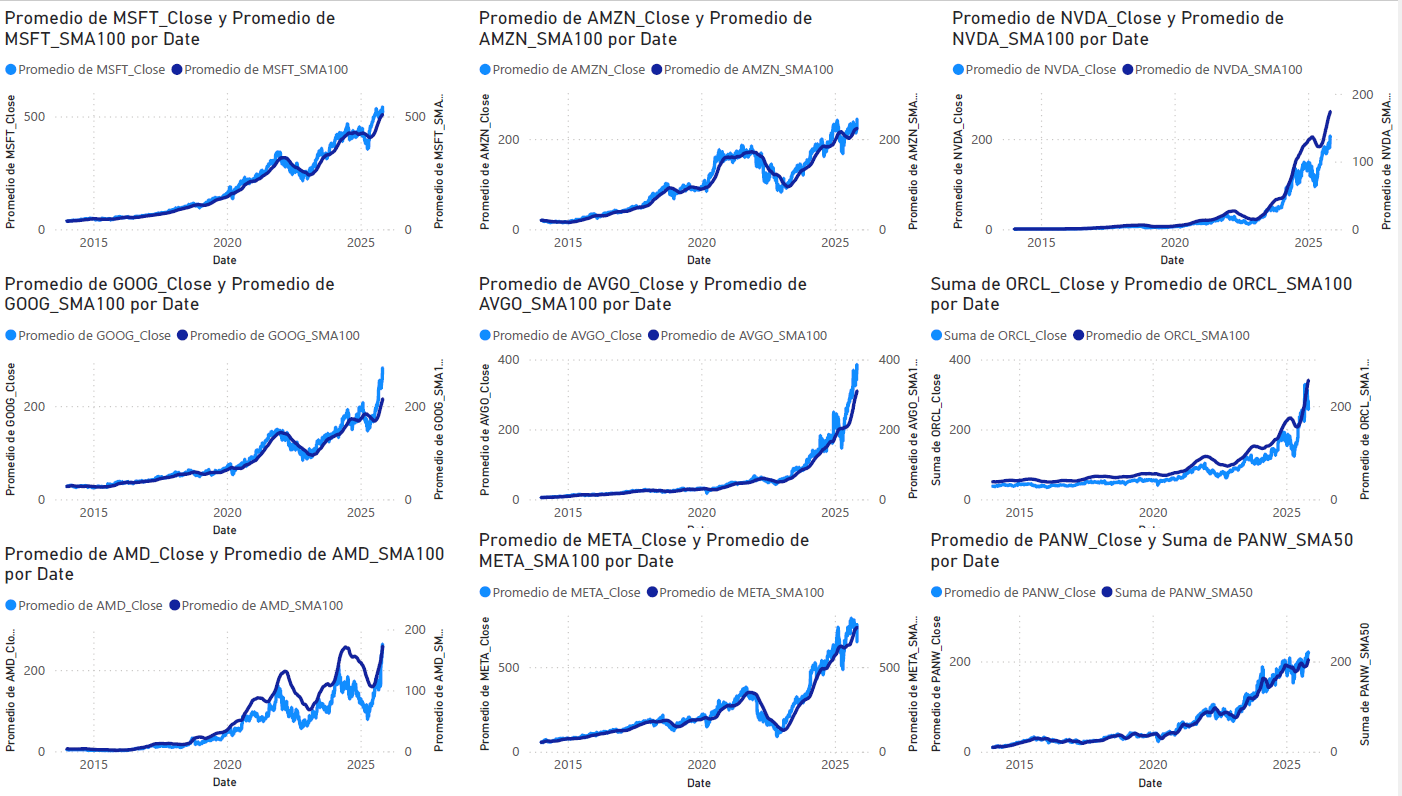

This screenshot's page, from the dashboard's own definition file:
{"tool":"powerbi","page":{"name":"Stocks and their 100 SMA","canvas":[1280,720],"ordinal":1},"visuals":[{"type":"lineChart","fields":{"Y":["Avg(MSFT_Gold.MSFT_Close)"],"Category":["MSFT_Gold.Date"],"Y2":["Avg(MSFT_Gold.MSFT_SMA100)"]},"box":[0,0,413,242.9],"z":0},{"type":"lineChart","fields":{"Y":["Avg(GOOG_Gold.GOOG_Close)"],"Category":["GOOG_Gold.Date"],"Y2":["Avg(GOOG_Gold.GOOG_SMA100)"]},"box":[0,242.9,413,247],"z":1000},{"type":"lineChart","fields":{"Category":["AMD_Gold.Date"],"Y":["Avg(AMD_Gold.AMD_Close)"],"Y2":["Avg(AMD_Gold.AMD_SMA100)"]},"box":[0,489.9,413,230.5],"z":2000},{"type":"lineChart","fields":{"Y":["Avg(AMZN_Gold.AMZN_Close)"],"Category":["AMZN_Gold.Date"],"Y2":["Avg(AMZN_Gold.AMZN_SMA100)"]},"box":[433.6,0,413,242.9],"z":3000},{"type":"lineChart","fields":{"Category":["NVDA_Gold.Date"],"Y":["Avg(NVDA_Gold.NVDA_Close)"]},"box":[867.2,0,413,242.9],"z":4000},{"type":"lineChart","fields":{"Category":["AVGO_Gold.Date"],"Y":["Avg(AVGO_Gold.AVGO_Close)"],"Y2":["Avg(AVGO_Gold.AVGO_SMA100)"]},"box":[433.6,242.9,413,247],"z":5000},{"type":"lineChart","fields":{"Category":["META_Gold.Date"],"Y":["Avg(META_Gold.META_Close)"],"Y2":["Avg(META_Gold.META_SMA100)"]},"box":[433.6,477.5,413,242.9],"z":6000},{"type":"lineChart","fields":{"Category":["NVDA_Gold.Date"],"Y":["Avg(NVDA_Gold.NVDA_Close)"],"Y2":["Avg(NVDA_Gold.NVDA_SMA100)"]},"box":[867,0,413,242.9],"z":7000},{"type":"lineChart","fields":{"Y":["Sum(ORCL_Gold.ORCL_Close)"],"Category":["ORCL_Gold.Date"],"Y2":["Avg(ORCL_Gold.ORCL_SMA100)"]},"box":[846.7,242.9,413,247],"z":8000},{"type":"lineChart","fields":{"Category":["PANW_Gold.Date"],"Y":["Avg(PANW_Gold.PANW_Close)"],"Y2":["Sum(PANW_Gold.PANW_SMA50)"]},"box":[846.7,477.5,413,242.9],"z":9000}]}

Visuals, with their boxes in screenshot pixels (x1, y1, x2, y2), scaled from the page's 1280x720 canvas onto the 1402x796 screenshot:
lineChart - Avg(MSFT_Gold.MSFT_Close) x MSFT_Gold.Date: [0, 0, 452, 269]
lineChart - Avg(GOOG_Gold.GOOG_Close) x GOOG_Gold.Date: [0, 269, 452, 542]
lineChart - AMD_Gold.Date x Avg(AMD_Gold.AMD_Close): [0, 542, 452, 795]
lineChart - Avg(AMZN_Gold.AMZN_Close) x AMZN_Gold.Date: [475, 0, 927, 269]
lineChart - NVDA_Gold.Date x Avg(NVDA_Gold.NVDA_Close): [950, 0, 1401, 269]
lineChart - AVGO_Gold.Date x Avg(AVGO_Gold.AVGO_Close): [475, 269, 927, 542]
lineChart - META_Gold.Date x Avg(META_Gold.META_Close): [475, 528, 927, 795]
lineChart - NVDA_Gold.Date x Avg(NVDA_Gold.NVDA_Close): [950, 0, 1401, 269]
lineChart - Sum(ORCL_Gold.ORCL_Close) x ORCL_Gold.Date: [927, 269, 1380, 542]
lineChart - PANW_Gold.Date x Avg(PANW_Gold.PANW_Close): [927, 528, 1380, 795]
